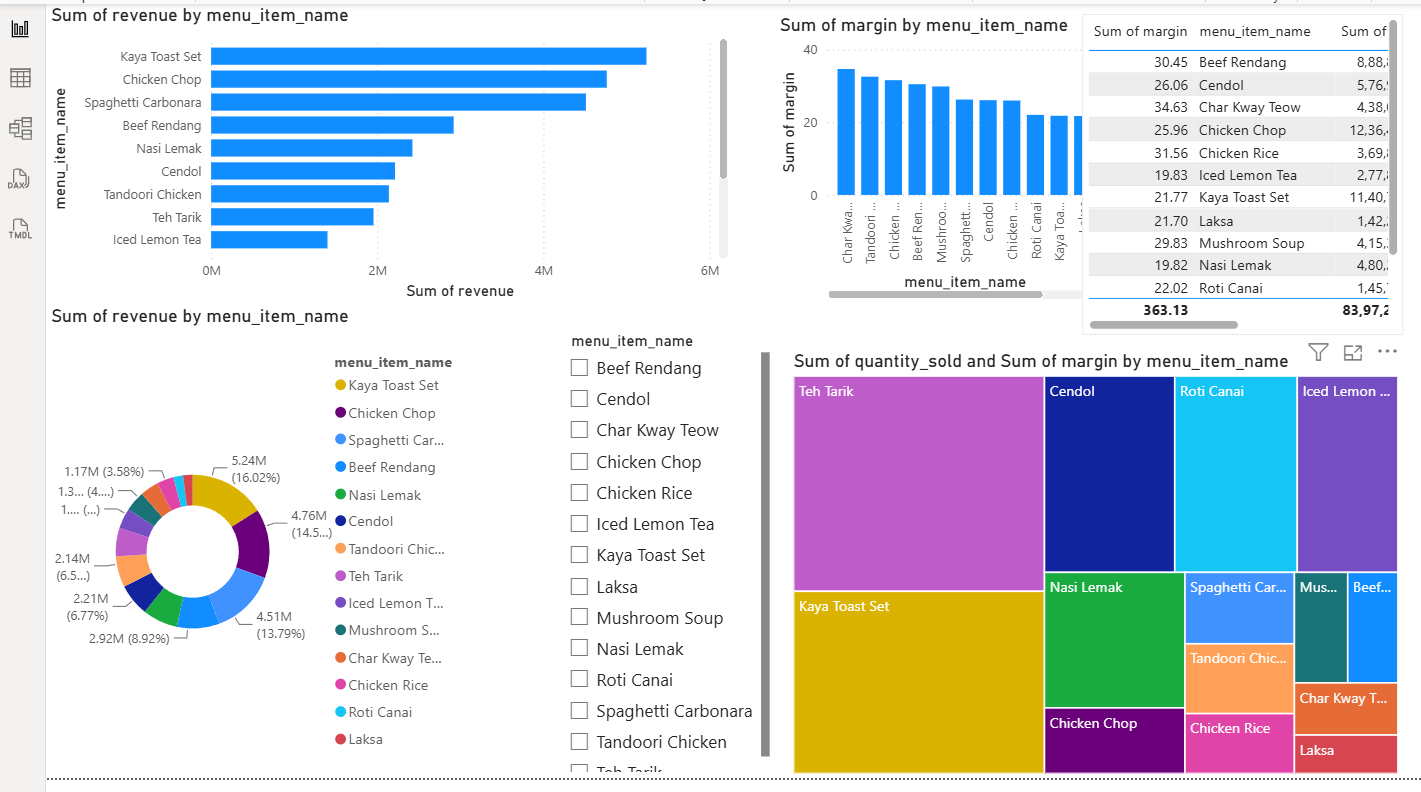

Layout of this report page (visuals, bound fields, positions):
{"tool":"powerbi","page":{"name":"Menu Analytics","canvas":[1280,720],"ordinal":0},"visuals":[{"type":"clusteredBarChart","fields":{"Category":["public menu_performance_v.menu_item_name"],"Y":["Sum(public menu_performance_v.revenue)"]},"box":[0,0,639.5,279.9],"z":0},{"type":"slicer","fields":{"Values":["public menu_performance_v.menu_item_name"]},"box":[475.6,300,202.3,419.8],"z":1000},{"type":"treemap","fields":{"Group":["public menu_performance_v.menu_item_name"],"Values":["Sum(public menu_performance_v.quantity_sold)"]},"box":[690.7,322.1,572.1,398.8],"z":2000},{"type":"clusteredColumnChart","fields":{"Category":["public menu_performance_v.menu_item_name"],"Y":["Sum(public menu_performance_v.margin)"]},"box":[677.9,9.6,310.1,270.3],"z":3000},{"type":"tableEx","fields":{"Values":["Sum(public menu_performance_v.margin)","public menu_performance_v.menu_item_name","Sum(public menu_performance_v.profit)","Sum(public menu_performance_v.quantity_sold)","Sum(public menu_performance_v.revenue)"]},"box":[964,9.3,298.8,298.8],"z":4000},{"type":"donutChart","fields":{"Y":["Sum(public menu_performance_v.revenue)"],"Category":["public menu_performance_v.menu_item_name"]},"box":[0,280.2,387.2,439.5],"z":5001}]}

Visuals, with their boxes on the page's 1280x720 design canvas (x1, y1, x2, y2). These are canvas units, not pixel positions in the 1421x792 screenshot, which may show the page scaled, cropped or inside an application window:
clusteredBarChart - public menu_performance_v.menu_item_name x Sum(public menu_performance_v.revenue): Rect(0, 0, 640, 280)
slicer - public menu_performance_v.menu_item_name: Rect(476, 300, 678, 720)
treemap - public menu_performance_v.menu_item_name x Sum(public menu_performance_v.quantity_sold): Rect(691, 322, 1263, 721)
clusteredColumnChart - public menu_performance_v.menu_item_name x Sum(public menu_performance_v.margin): Rect(678, 10, 988, 280)
tableEx - Sum(public menu_performance_v.margin) x public menu_performance_v.menu_item_name: Rect(964, 9, 1263, 308)
donutChart - Sum(public menu_performance_v.revenue) x public menu_performance_v.menu_item_name: Rect(0, 280, 387, 720)
